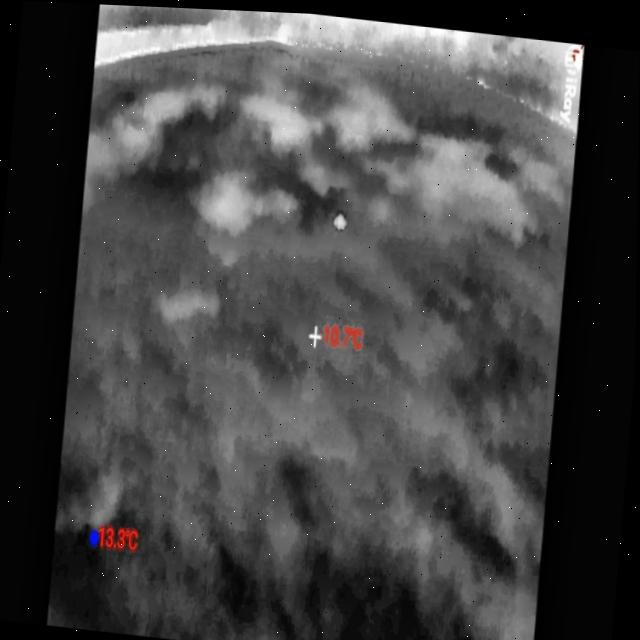drone: (331, 206, 346, 229)
